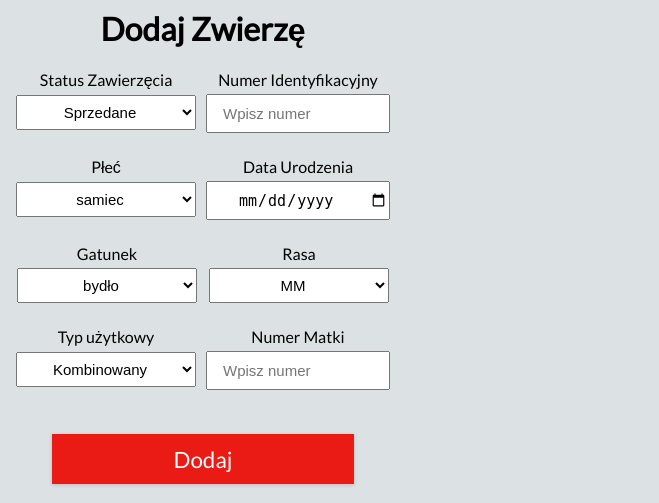
test AnimalsAdd component › try add new animal without data
Click the button with test id "add-animal-submit".
click(203, 459)  # box left=52, top=434, right=354, bottom=484
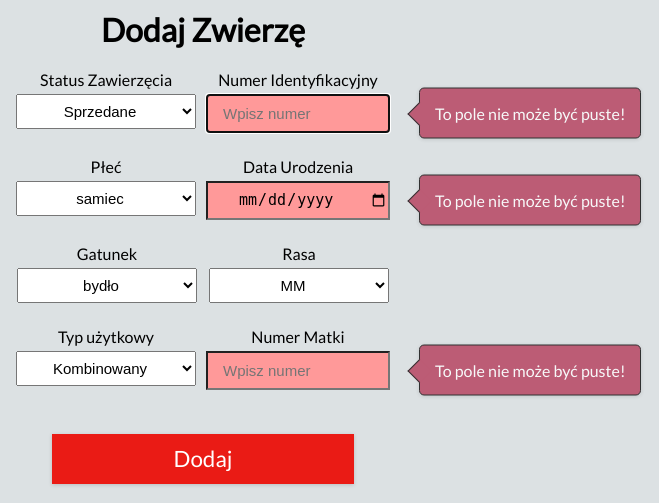
Expected: the number of elements with test id "invalid-msg" is 3, left=419, top=88, right=641, bottom=139; left=419, top=175, right=641, bottom=226; left=419, top=345, right=641, bottom=396
Expected: the text with test id "invalid-msg" below "Numer Identyfikacyjny" reads "To pole nie może być puste!", left=435, top=104, right=625, bottom=123
Expected: the text with test id "invalid-msg" below "Data Urodzenia" reads "To pole nie może być puste!", left=435, top=191, right=625, bottom=210
